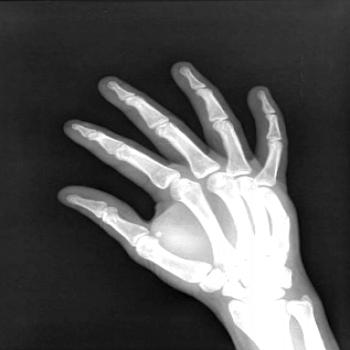Fracture: (280, 212, 294, 224)
